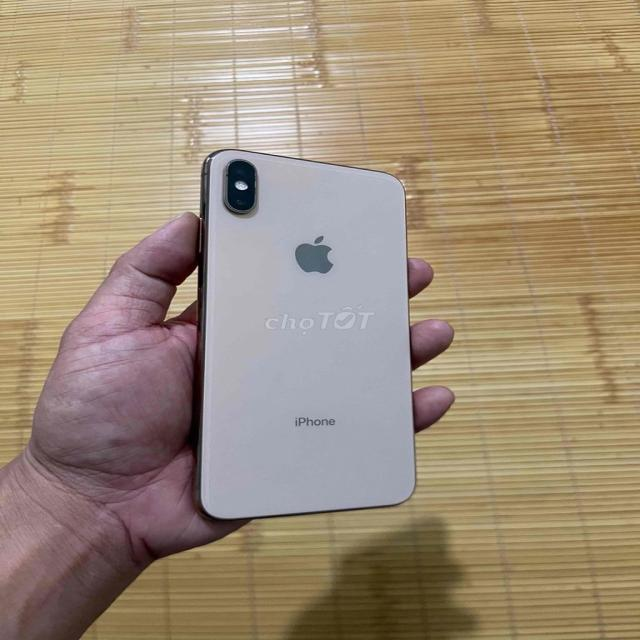gen_x_xs: (200, 144, 421, 530)
